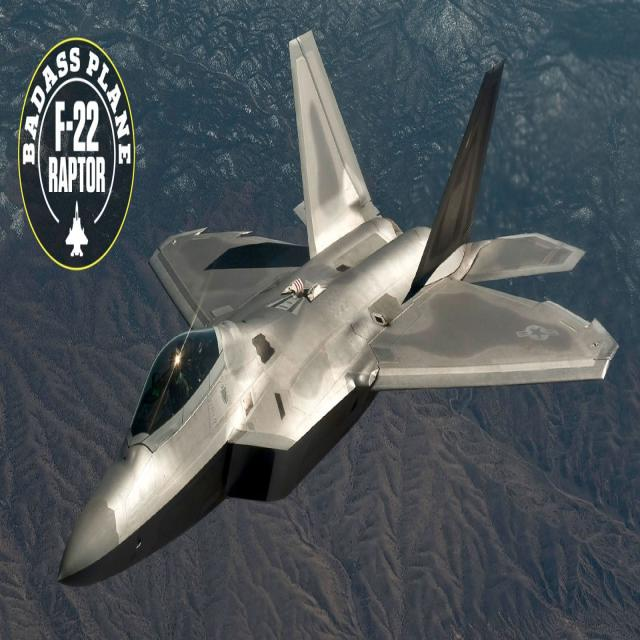F22: (43, 7, 624, 577)
